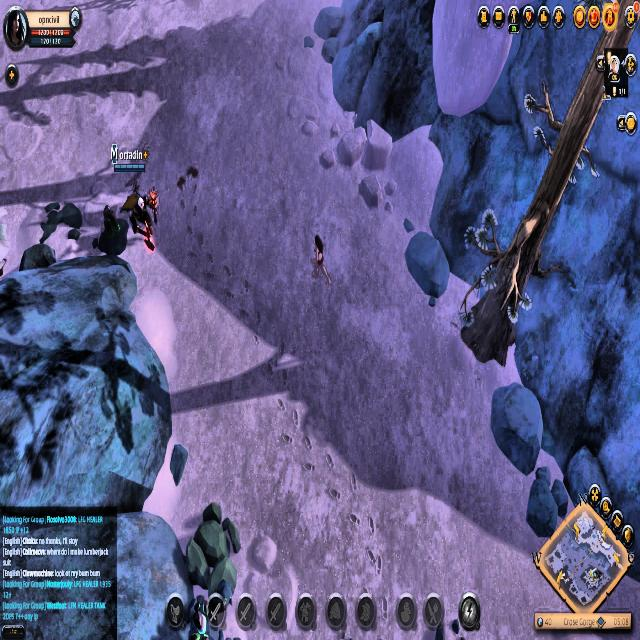sandstone: (183, 501, 244, 598)
tin_ore: (97, 200, 129, 262)
